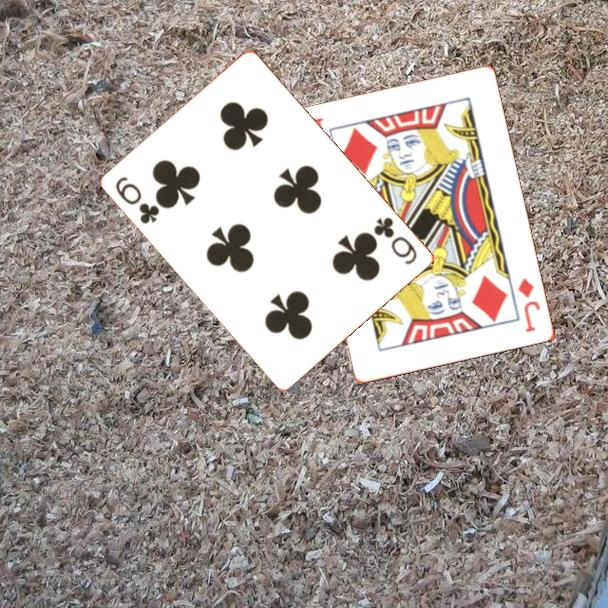c06: (112, 173, 163, 227), (371, 213, 421, 268)
d11: (515, 274, 544, 335)
